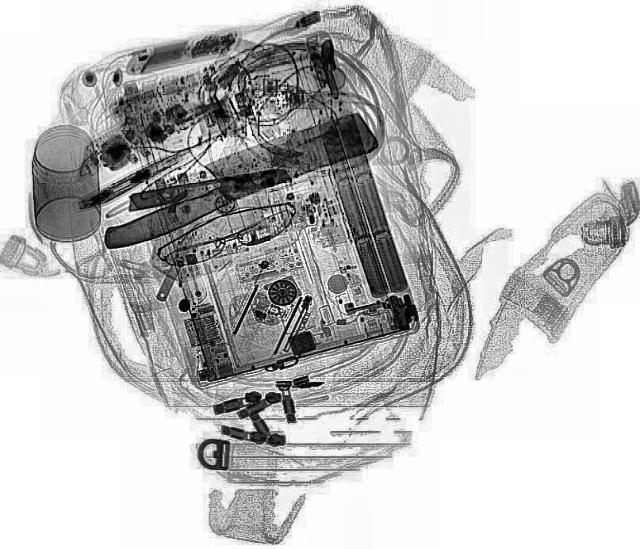Knife: (85, 106, 383, 252)
